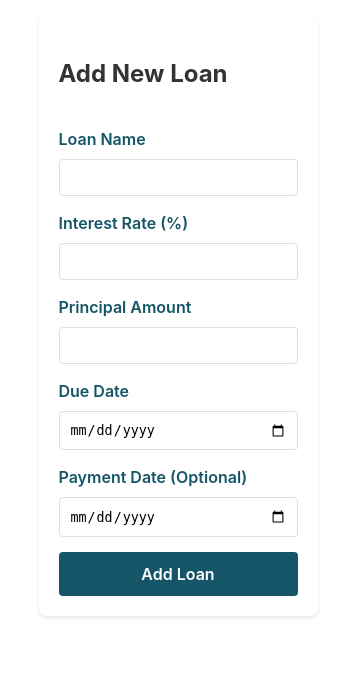
Test case: AddPayment Component › validates form inputs
Click the button "Add Loan" at (178,574), box [58,552,298,596]
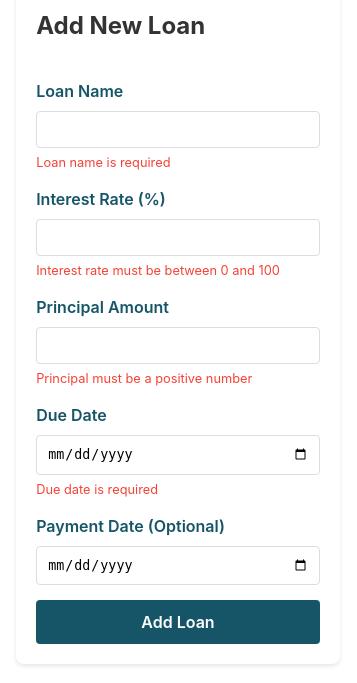
Now the text "Loan name is required" is shown, box [36,155,170,170]
Now the text "Interest rate must be between 0 and 100" is shown, box [36,261,320,280]
Now the text "Principal must be a positive number" is shown, box [36,371,252,386]
